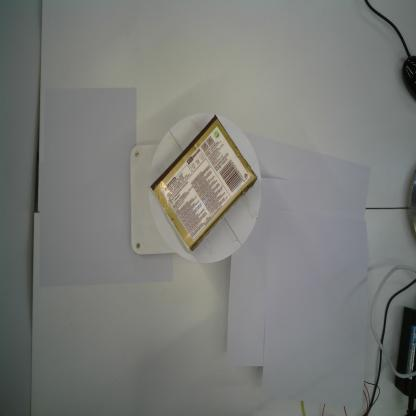Tissue: (150, 115, 258, 252)
